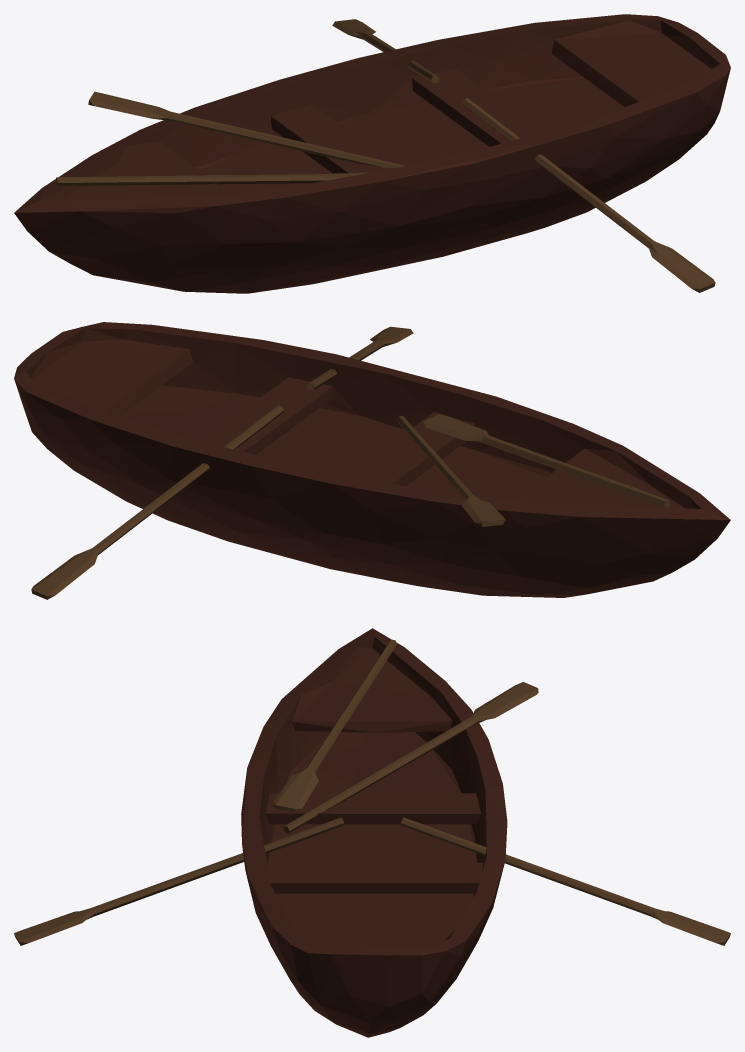
The model's file is boat_01.FBX.
3 views of the same model, one above another, from view 1: azimuth 30°, elevation 25°; view 2: azimuth 150°, elevation 25°; view 3: azimuth 270°, elevation 25° (orthographic).
Parts seen in each view (by area): view 1: boat_01; view 2: boat_01; view 3: boat_01.
Part boxes in pixels (x1,y1,x2,y2): boat_01: (14, 14, 730, 293); boat_01: (14, 322, 730, 599); boat_01: (14, 628, 730, 1037).
Size of the model in its own units: 1127 by 250 by 1030.
